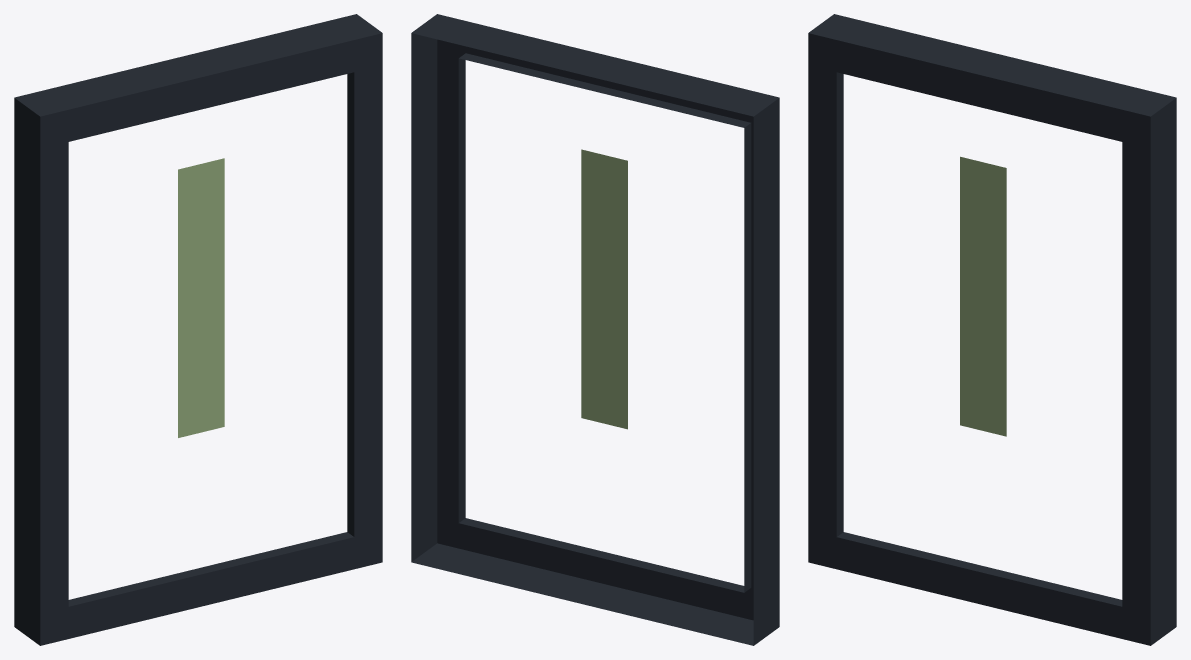
Rendered from SO_picture06.fbx.
The picture shows the model from 3 angles, left to right: view 1: azimuth 30°, elevation 25°; view 2: azimuth 150°, elevation 25°; view 3: azimuth 330°, elevation 25°; orthographic projection.
Parts seen in each view (by area): view 1: SO_pictures06; view 2: SO_pictures06; view 3: SO_pictures06.
Part boxes in pixels (left/top/right/bottom): SO_pictures06: left=14, top=14, right=382, bottom=645; SO_pictures06: left=411, top=14, right=779, bottom=645; SO_pictures06: left=808, top=14, right=1176, bottom=645.
Bounding box in the file's own units: 44.23 × 65.3 × 5.83.
